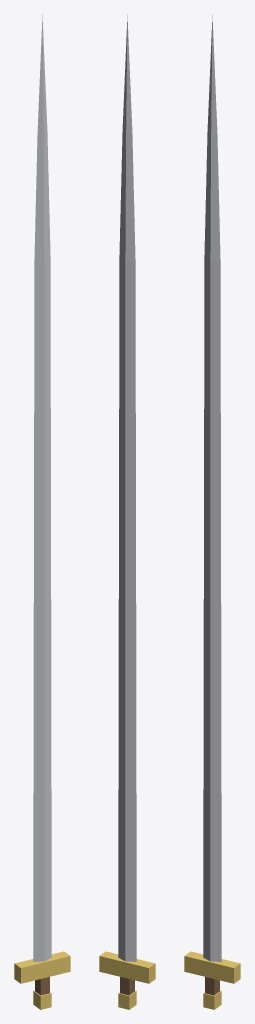
Rendered from Sword.fbx.
3 views of the same model, side by side, from view 1: azimuth 30°, elevation 25°; view 2: azimuth 150°, elevation 25°; view 3: azimuth 330°, elevation 25° (orthographic).
Visible parts, largest first — view 1: Sword_Blade, Sword_Guard, Sword_Pommel, Sword_Grip; view 2: Sword_Blade, Sword_Guard, Sword_Pommel, Sword_Grip; view 3: Sword_Blade, Sword_Guard, Sword_Pommel, Sword_Grip.
Part boxes in pixels (x1=…): Sword_Blade: x1=33, y1=14, x2=51, y2=961; Sword_Guard: x1=14, y1=951, x2=70, y2=983; Sword_Pommel: x1=33, y1=990, x2=51, y2=1009; Sword_Grip: x1=35, y1=977, x2=49, y2=995; Sword_Blade: x1=118, y1=14, x2=136, y2=961; Sword_Guard: x1=99, y1=951, x2=155, y2=983; Sword_Pommel: x1=118, y1=990, x2=136, y2=1009; Sword_Grip: x1=120, y1=977, x2=134, y2=995; Sword_Blade: x1=203, y1=14, x2=221, y2=961; Sword_Guard: x1=184, y1=951, x2=240, y2=983; Sword_Pommel: x1=203, y1=990, x2=221, y2=1009; Sword_Grip: x1=205, y1=977, x2=219, y2=995.
Bounding box in the file's own units: 5.5 × 105 × 1.4.
